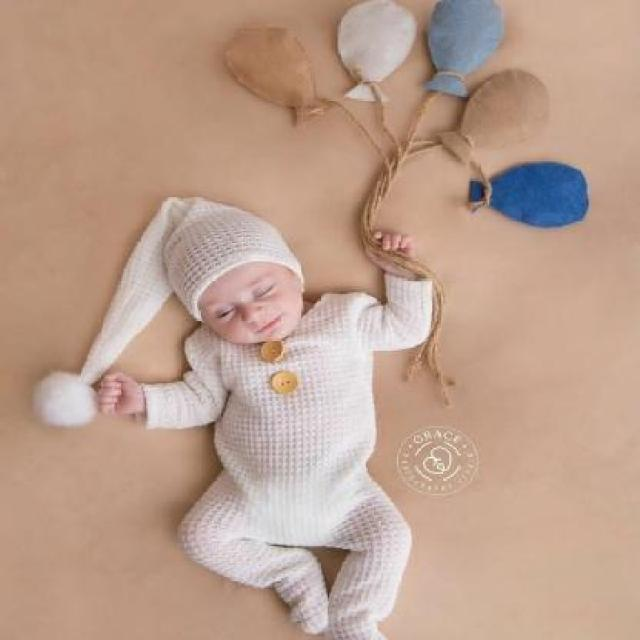baby: (97, 196, 432, 638)
